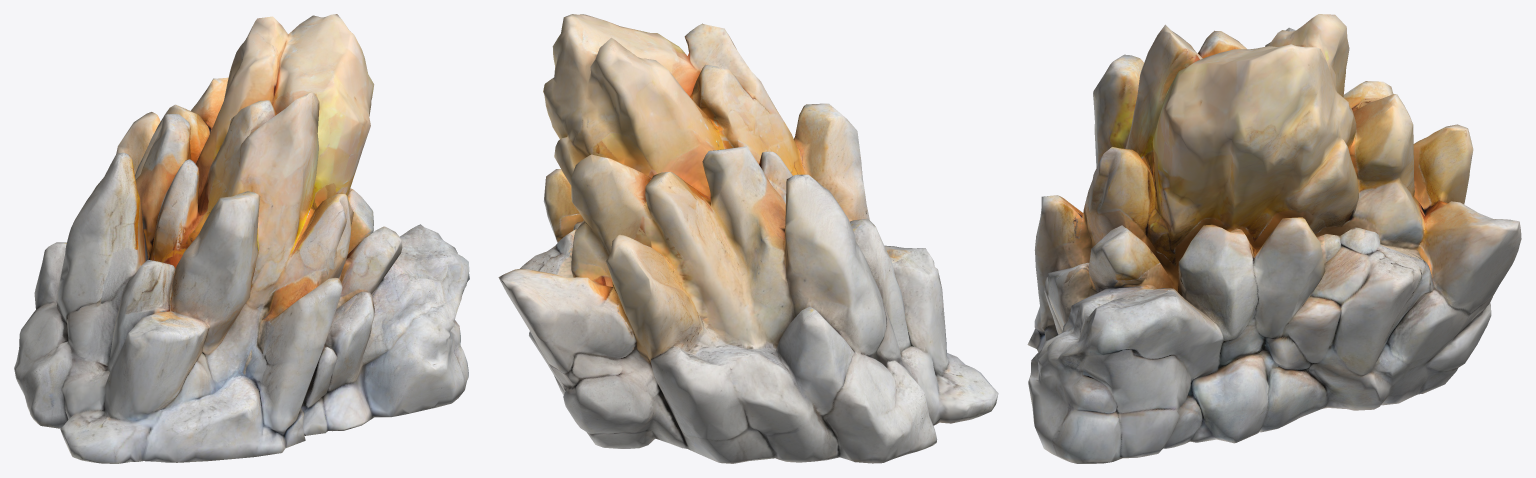
Rendered from rocks.glb.
3 views of the same model, side by side, from view 1: azimuth 30°, elevation 25°; view 2: azimuth 150°, elevation 25°; view 3: azimuth 270°, elevation 25° (orthographic). The views are drawn at different scales.
Bounding box in the file's own units: 1.99 × 1.61 × 1.81.
1 material, 1 textured.
